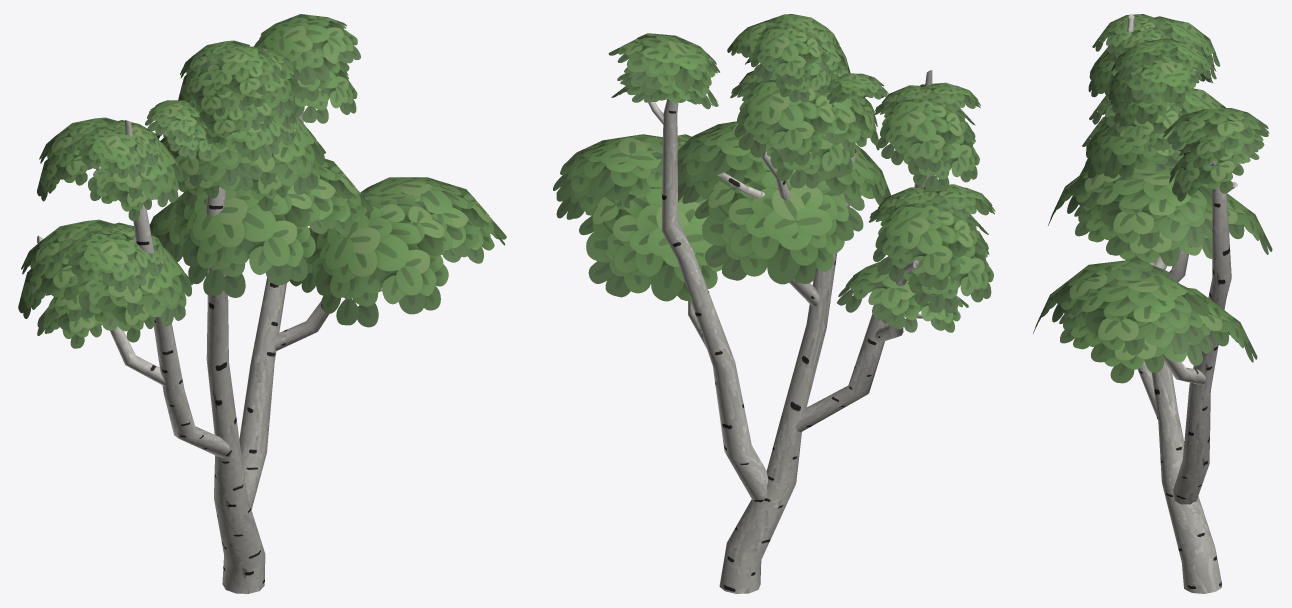
File: tree_birch_b.glb
3 renders of one model, left to right at view 1: azimuth 30°, elevation 25°; view 2: azimuth 150°, elevation 25°; view 3: azimuth 270°, elevation 25°, orthographic. The views are drawn at different scales.
Visible parts, largest first — view 1: tree_birch_b; view 2: tree_birch_b; view 3: tree_birch_b.
Part boxes in pixels (left/top/right/bottom): tree_birch_b: left=18, top=14, right=506, bottom=593; tree_birch_b: left=553, top=14, right=995, bottom=593; tree_birch_b: left=1033, top=14, right=1272, bottom=593.
Size of the model in its own units: 8.76 by 10.3 by 4.35.
Materials: 2 (2 with a texture image).
